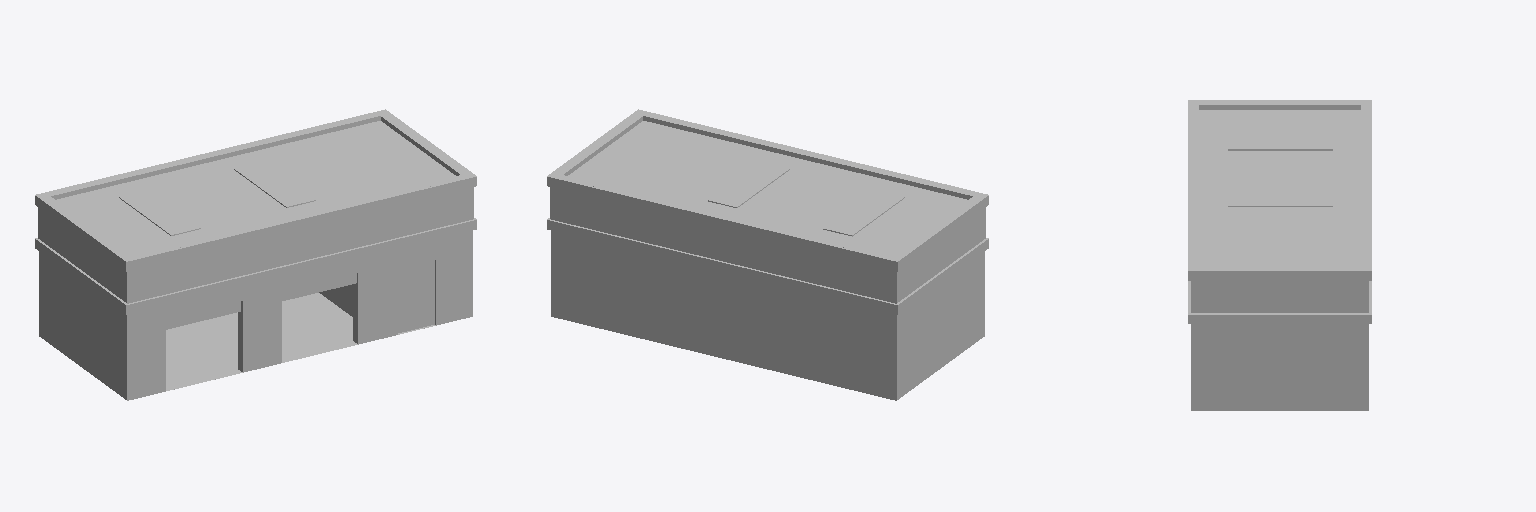
File: Building_Auto Service.obj
3 views of the same model, side by side, from view 1: azimuth 30°, elevation 25°; view 2: azimuth 150°, elevation 25°; view 3: azimuth 270°, elevation 25° (orthographic).
Parts seen in each view (by area): view 1: Building_Auto_Service; view 2: Building_Auto_Service; view 3: Building_Auto_Service.
Part boxes in pixels (left/top/right/bottom): Building_Auto_Service: left=35, top=109, right=476, bottom=400; Building_Auto_Service: left=547, top=109, right=988, bottom=400; Building_Auto_Service: left=1188, top=100, right=1371, bottom=410.
Size of the model in its own units: 719 by 276 by 325.